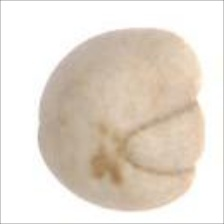L5: (121, 99, 206, 177), (33, 93, 56, 157)
L6: (31, 26, 209, 213)
